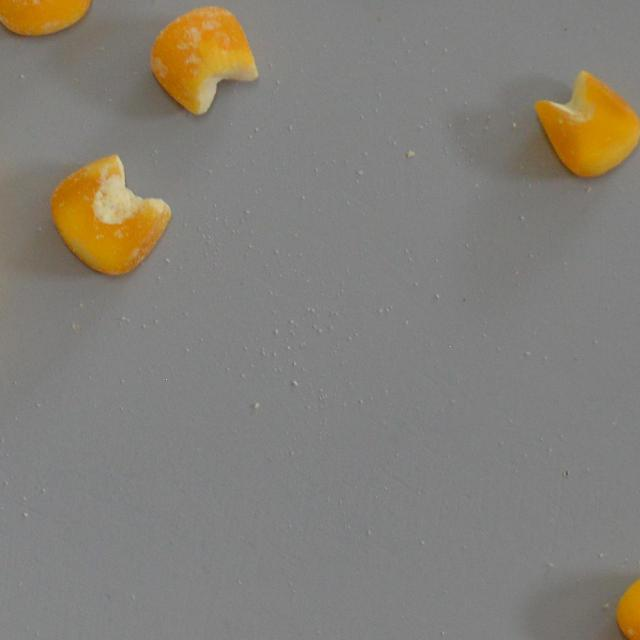dañado: (46, 146, 174, 283), (145, 0, 262, 124), (531, 67, 640, 182), (0, 0, 95, 41), (612, 558, 640, 640)
